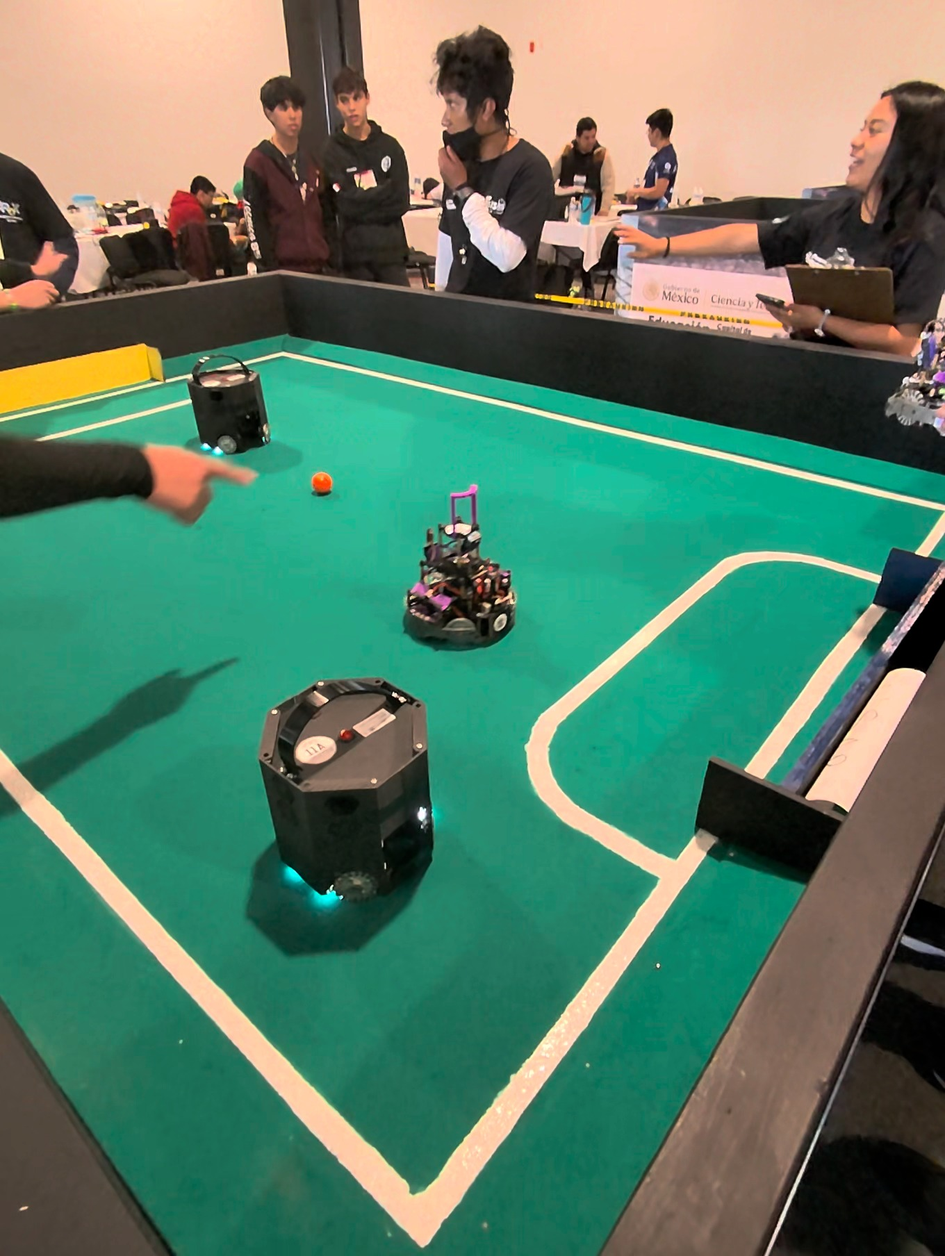Robot: (248, 685, 449, 953), (401, 508, 516, 649), (187, 349, 283, 476)
pelota: (311, 473, 333, 495)
